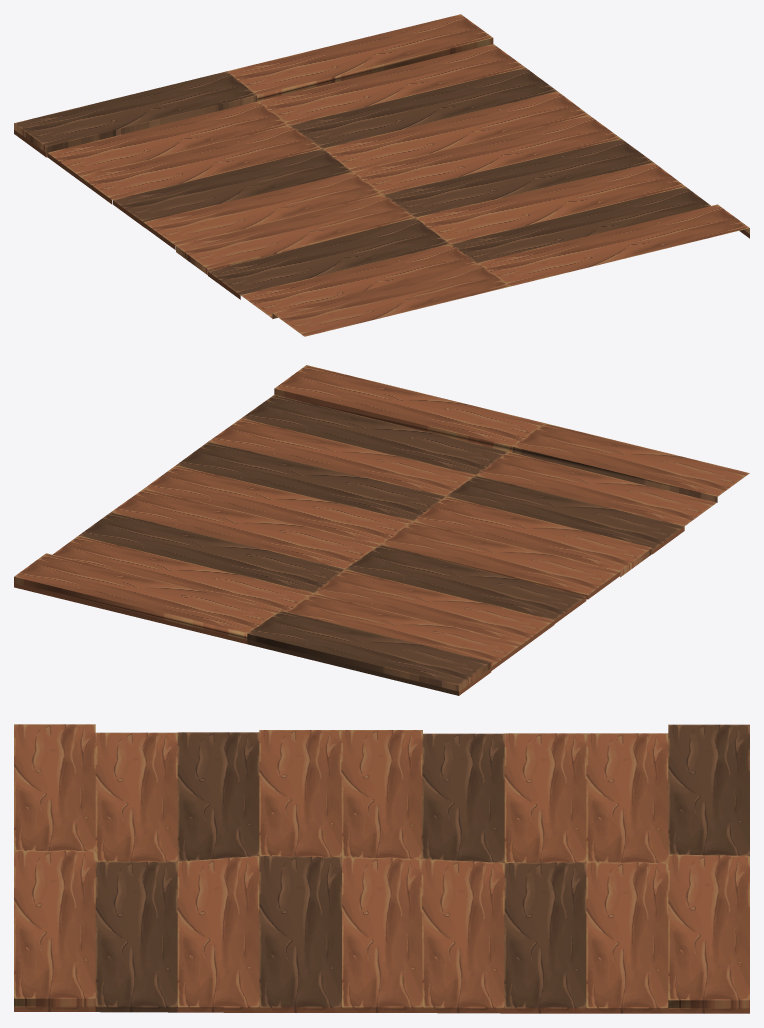
The model's file is Chao.fbx.
3 views of the same model, one above another, from view 1: azimuth 30°, elevation 25°; view 2: azimuth 150°, elevation 25°; view 3: azimuth 270°, elevation 25° (orthographic). The views are drawn at different scales.
Visible parts, largest first — view 1: Cube.002, Cube.055, Cube.057, Cube.056, Cube.058; view 2: Cube.002, Cube.055, Cube.057, Cube.056, Cube.058; view 3: Cube.055, Cube.002, Cube.057, Cube.056, Cube.058.
Boxes of the visible parts, x1,y1,x2,y2 form: Cube.002: (46,14,749,336); Cube.055: (14,67,710,299); Cube.057: (80,125,685,317); Cube.056: (258,44,621,194); Cube.058: (323,91,588,172); Cube.002: (14,365,749,670); Cube.055: (79,395,684,695); Cube.057: (208,418,716,648); Cube.056: (53,465,412,611); Cube.058: (111,489,380,569); Cube.055: (95,724,749,1013); Cube.002: (14,724,749,1013); Cube.057: (95,732,586,1012); Cube.056: (342,857,668,1013); Cube.058: (421,859,504,1013).
Size of the model in its own units: 623 by 14.16 by 702.
